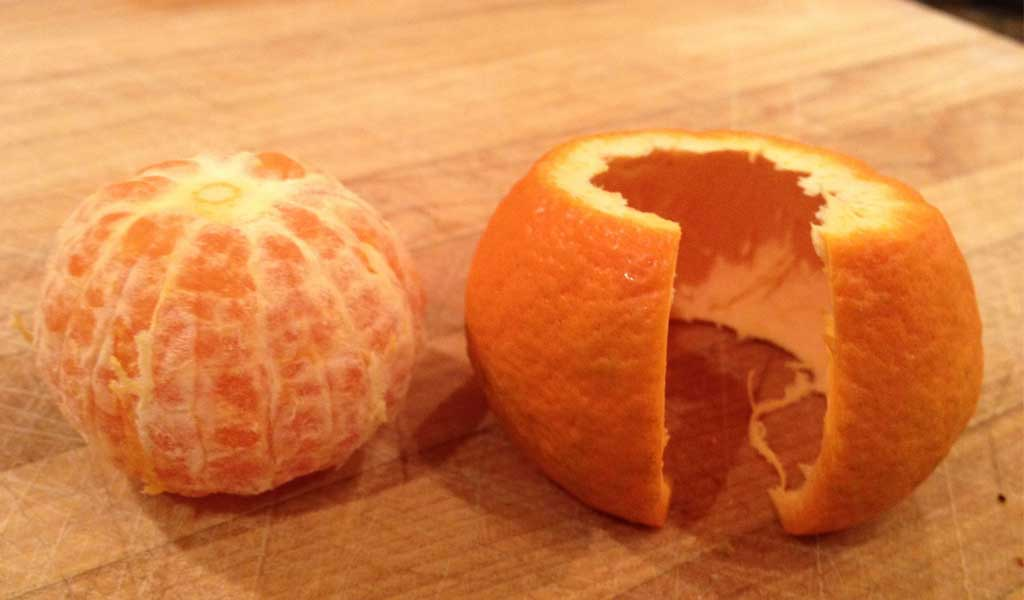orange: (453, 137, 999, 551), (31, 161, 416, 480)
